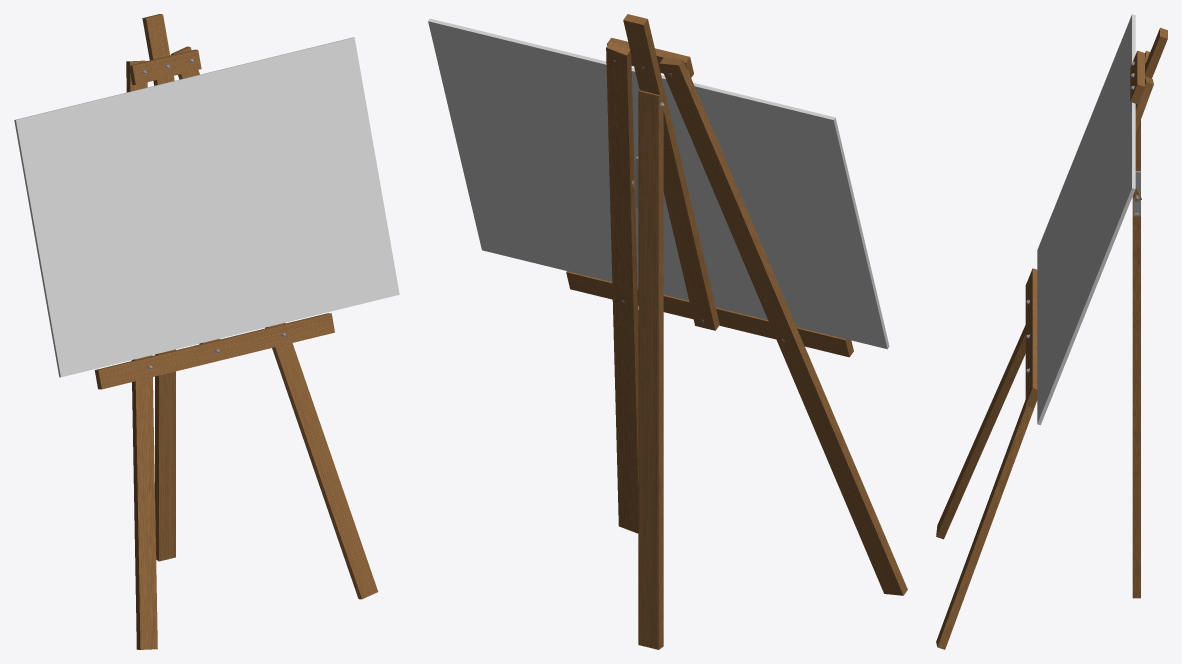
The model's file is canvas.FBX.
The picture shows the model from 3 angles, left to right: view 1: azimuth 30°, elevation 25°; view 2: azimuth 150°, elevation 25°; view 3: azimuth 270°, elevation 25°; orthographic projection. The views are drawn at different scales.
Parts seen in each view (by area): view 1: Box010, Box002, Box003, Box006, Box007, Box005, Box001; view 2: Box010, Box007, Box002, Box003, Box001, Box006; view 3: Box010, Box007, Box003, Box002, Box006, Box005, Box001.
Boxes of the visible parts, bbox=[...] form: Box010: bbox=[14, 37, 399, 377]; Box002: bbox=[126, 60, 157, 649]; Box003: bbox=[171, 46, 378, 599]; Box006: bbox=[94, 313, 334, 389]; Box007: bbox=[155, 349, 175, 561]; Box005: bbox=[129, 49, 201, 84]; Box001: bbox=[142, 14, 219, 344]; Box010: bbox=[428, 18, 889, 349]; Box007: bbox=[638, 90, 663, 649]; Box002: bbox=[659, 57, 907, 595]; Box003: bbox=[606, 41, 638, 533]; Box001: bbox=[623, 14, 719, 330]; Box006: bbox=[566, 271, 853, 357]; Box010: bbox=[1037, 14, 1135, 425]; Box007: bbox=[1132, 120, 1140, 598]; Box003: bbox=[936, 76, 1153, 649]; Box002: bbox=[936, 50, 1149, 539]; Box006: bbox=[1025, 268, 1037, 407]; Box005: bbox=[1130, 50, 1144, 104]; Box001: bbox=[1145, 27, 1167, 78].
Bounding box in the file's own units: 99.62 × 150 × 56.07.
